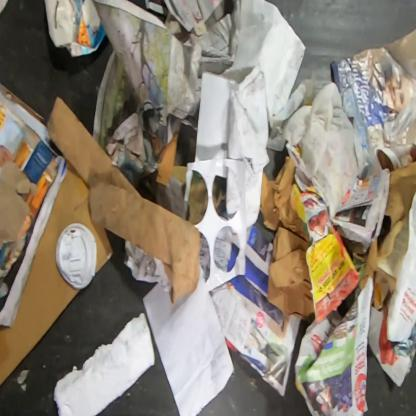cardboard: (47, 94, 201, 304), (0, 162, 115, 388)
rigid_plastic: (55, 222, 98, 290)
